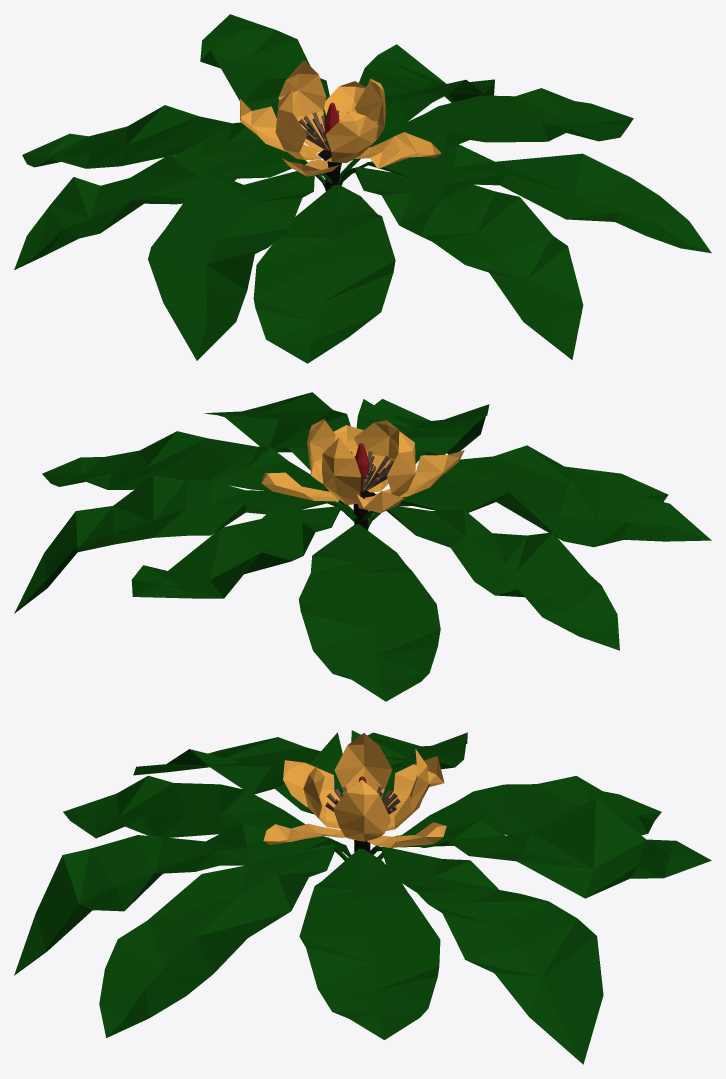
The model's file is magnolia.obj.
3 renders of one model, top to bottom at view 1: azimuth 30°, elevation 25°; view 2: azimuth 150°, elevation 25°; view 3: azimuth 270°, elevation 25°, orthographic. The views are drawn at different scales.
Visible parts, largest first — view 1: lf2x2, lf6x3, lf8x2, lf3x3, lf4x3, lf1x2, lf9x2, lf7x3, lf5x3, pt1bx2, pt1ax, pt1dx2 (+5 smaller); view 2: lf9x2, lf4x3, lf5x3, lf8x2, lf1x2, lf7x3, lf2x2, lf3x3, lf6x3, pt1bx, pt1ax2, pt2bx2 (+5 smaller); view 3: lf5x3, lf3x3, lf1x2, lf6x3, lf7x3, lf2x2, lf9x2, lf8x2, pt2ax, lf4x3, pt2cx2, pt2bx2 (+6 smaller).
Part boxes in pixels (x1,y1,x2,y2): lf2x2: (253, 184, 395, 363); lf6x3: (344, 167, 583, 359); lf8x2: (148, 170, 314, 360); lf3x3: (338, 144, 711, 253); lf4x3: (14, 154, 307, 269); lf1x2: (339, 88, 633, 176); lf9x2: (22, 105, 325, 184); lf7x3: (200, 14, 329, 119); lf5x3: (340, 44, 494, 168); pt1bx2: (278, 60, 328, 152); pt1ax: (325, 111, 378, 162); pt1dx2: (355, 132, 441, 168); lf9x2: (298, 524, 440, 701); lf4x3: (388, 506, 619, 650); lf5x3: (14, 475, 354, 613); lf8x2: (402, 473, 711, 547); lf1x2: (42, 431, 353, 512); lf7x3: (131, 503, 356, 598); lf2x2: (368, 445, 668, 524); lf3x3: (204, 392, 350, 469); lf6x3: (356, 399, 489, 463); pt1bx: (322, 437, 361, 504); pt1ax2: (353, 420, 399, 492); pt2bx2: (376, 450, 464, 497); lf5x3: (374, 847, 603, 1064); lf3x3: (99, 844, 342, 1037); lf1x2: (299, 849, 440, 1039); lf6x3: (14, 822, 339, 975); lf7x3: (395, 798, 711, 898); lf2x2: (63, 775, 347, 859); lf9x2: (377, 776, 661, 858); lf8x2: (190, 732, 343, 812); pt2ax: (333, 780, 391, 841); lf4x3: (351, 730, 467, 800); pt2cx2: (334, 733, 392, 798); pt2bx2: (283, 760, 339, 815).
Size of the model in its own units: 162 by 49.04 by 155.
